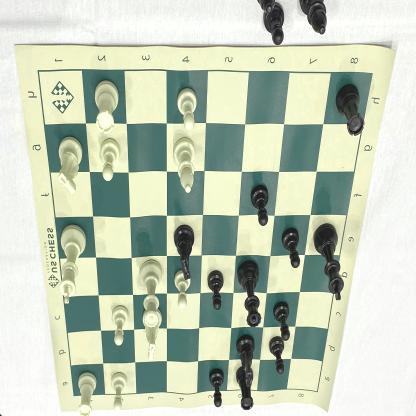black-king: (314, 222, 344, 305)
black-knight: (171, 223, 199, 281), (236, 334, 254, 387)
black-pawn: (280, 225, 302, 271), (250, 183, 270, 228), (272, 300, 292, 343), (206, 268, 226, 311), (207, 367, 226, 411), (267, 337, 285, 377)
black-queen: (236, 256, 263, 330)
black-rook: (334, 82, 365, 141), (235, 364, 256, 411)
white-bishop: (170, 136, 198, 195)
white-king: (56, 223, 88, 306)
white-knight: (52, 134, 86, 198), (141, 306, 164, 362)
white-pawn: (173, 84, 199, 134), (108, 304, 132, 348), (99, 137, 121, 184), (172, 269, 192, 315), (108, 370, 129, 411)
white-queen: (139, 258, 166, 328)
white-rook: (90, 78, 120, 136), (74, 370, 98, 416)
